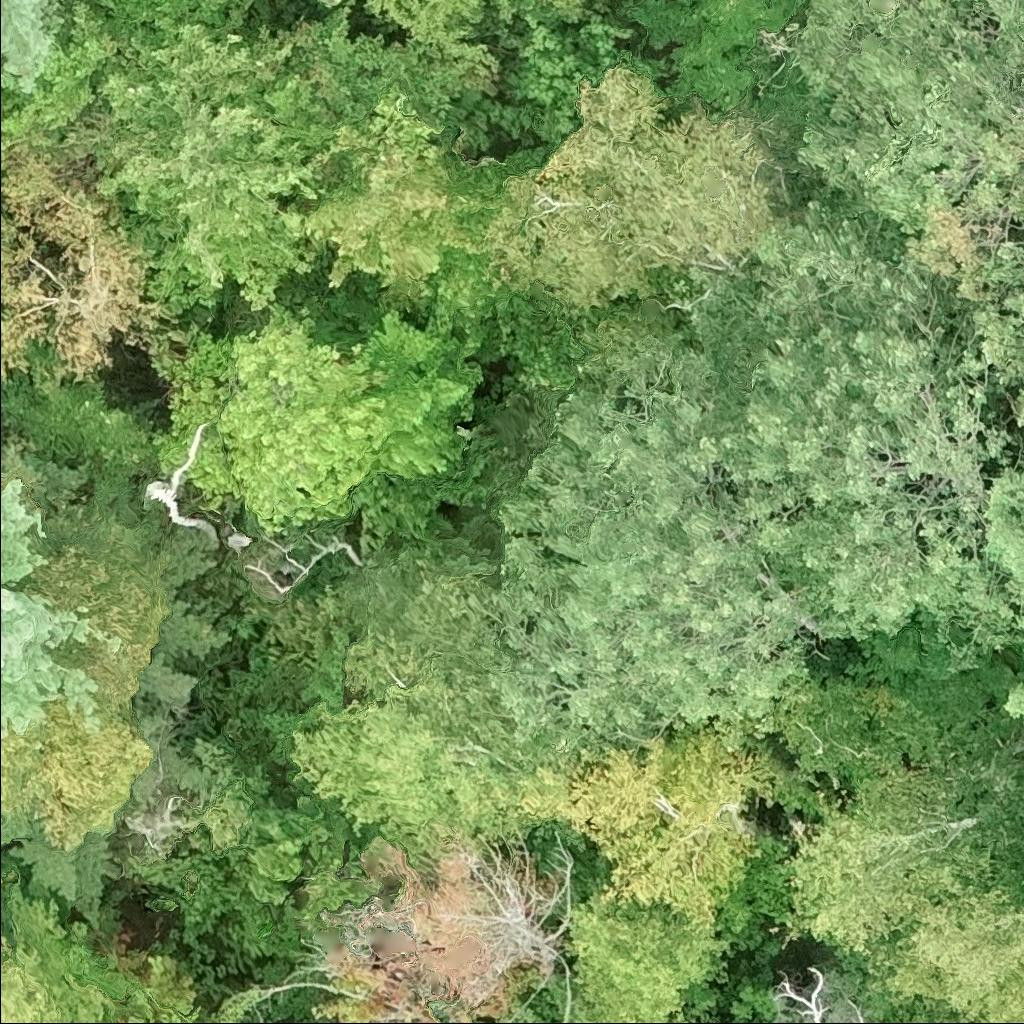crown: (692, 180, 1023, 668), (489, 323, 822, 752), (96, 9, 473, 316), (294, 542, 556, 846), (160, 300, 484, 537), (480, 68, 789, 313), (791, 0, 1023, 298), (299, 82, 551, 309), (524, 727, 783, 925), (0, 141, 177, 390), (787, 772, 998, 963), (314, 837, 523, 1023), (0, 472, 123, 736), (12, 520, 170, 711), (311, 0, 610, 98), (493, 14, 669, 148), (0, 699, 153, 847), (570, 884, 731, 1021), (621, 0, 805, 118), (882, 878, 1023, 1023), (959, 278, 1023, 432), (0, 942, 120, 1023), (976, 455, 1023, 635), (0, 0, 65, 95), (116, 956, 193, 1023), (1001, 680, 1023, 733), (0, 928, 5, 937)
